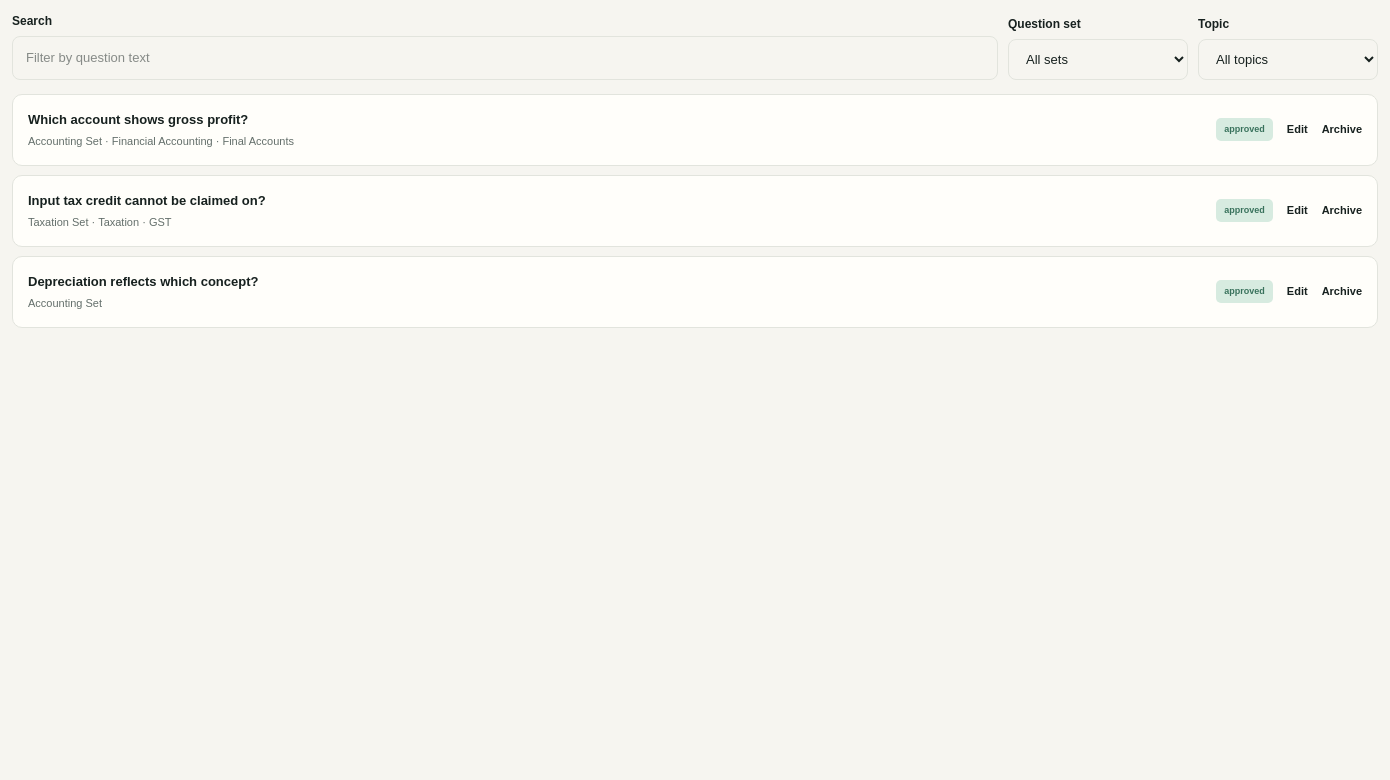
Scenario: QuestionBankList › opens an inline editor when Edit is clicked, and closes it on Cancel
Click the button "Edit" in the row of "· Financial Accounting · Final Accounts". click: (1297, 130)
box: [1287,121,1308,138]
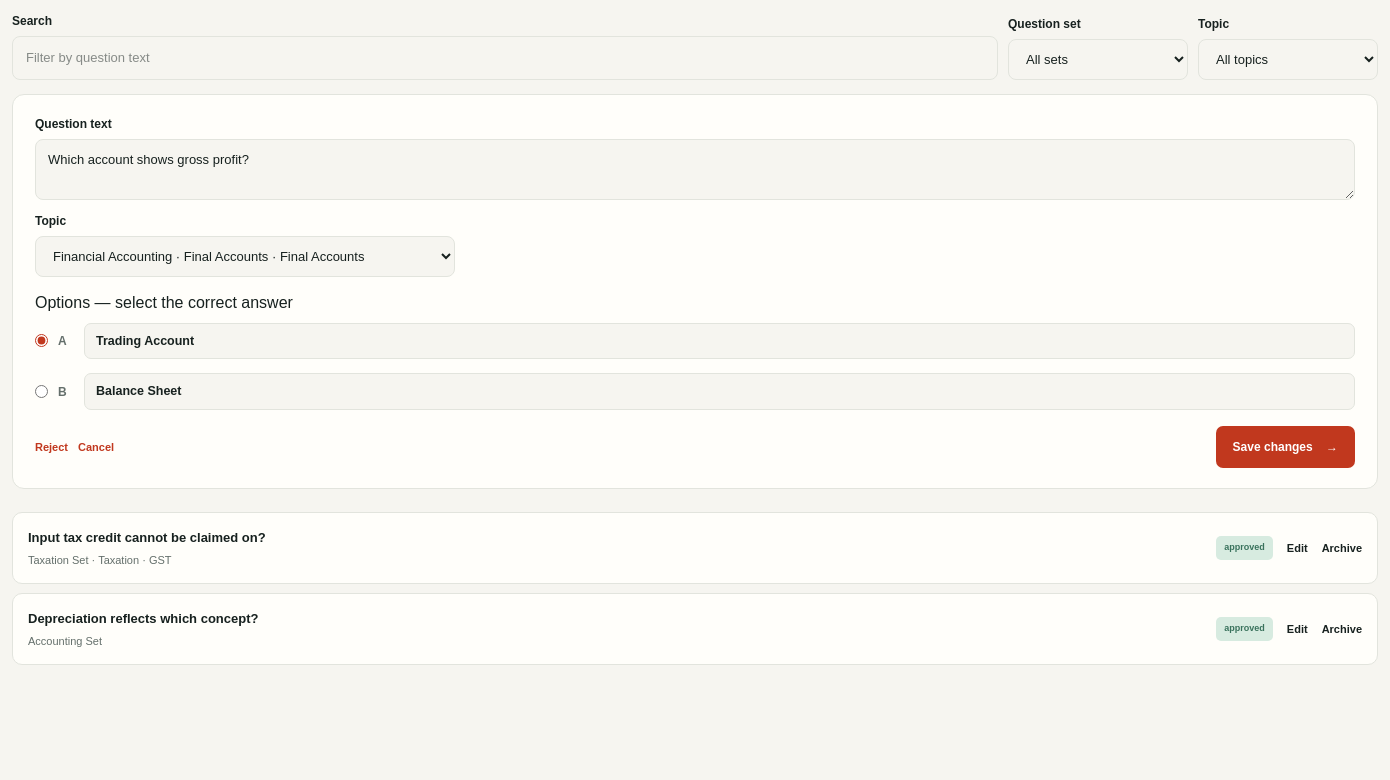
Result: the text box showing "Which account shows gross profit" is shown at [35,138,1355,200]
Result: the button "Save changes →" is shown at [1216,426,1355,468]
Click the button "Cancel". click: (96, 447)
box: [78,439,114,455]
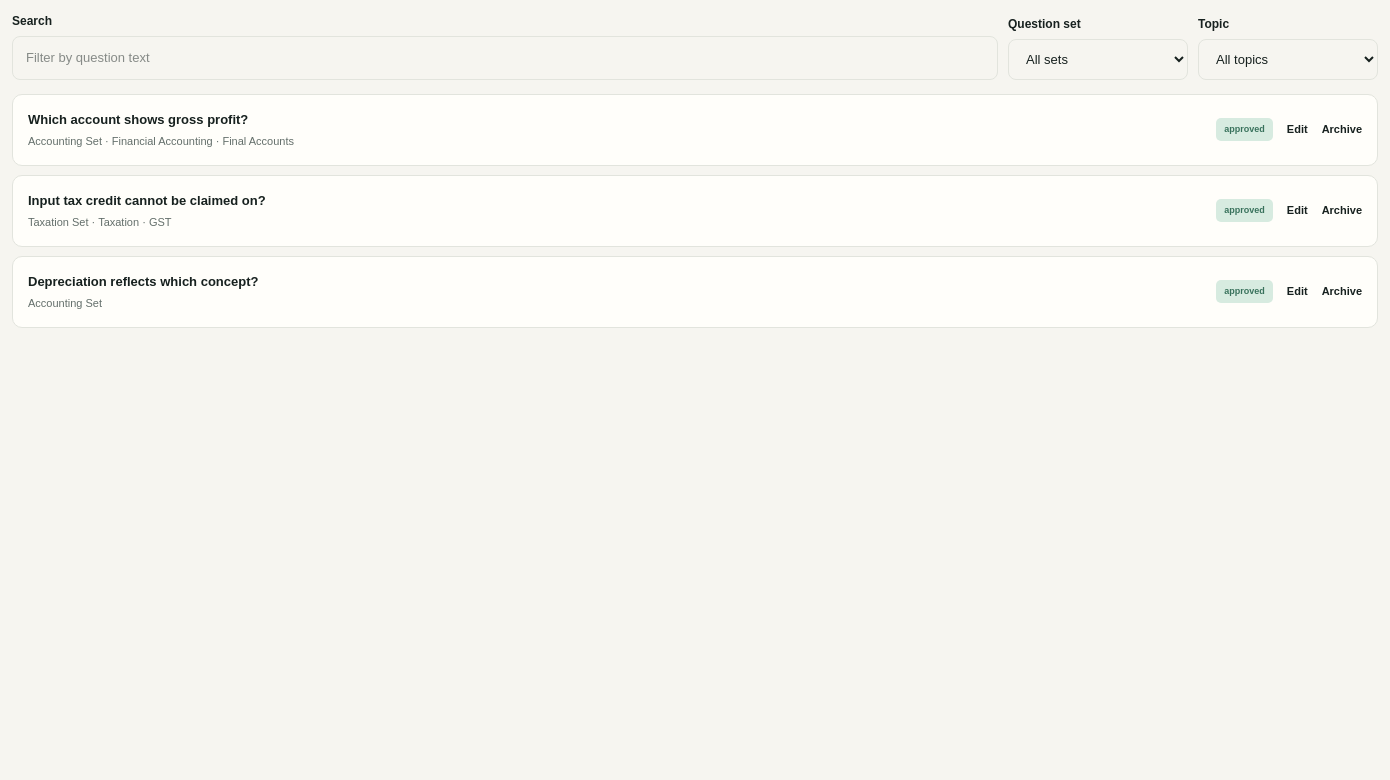
Result: the button "Save changes" is gone
